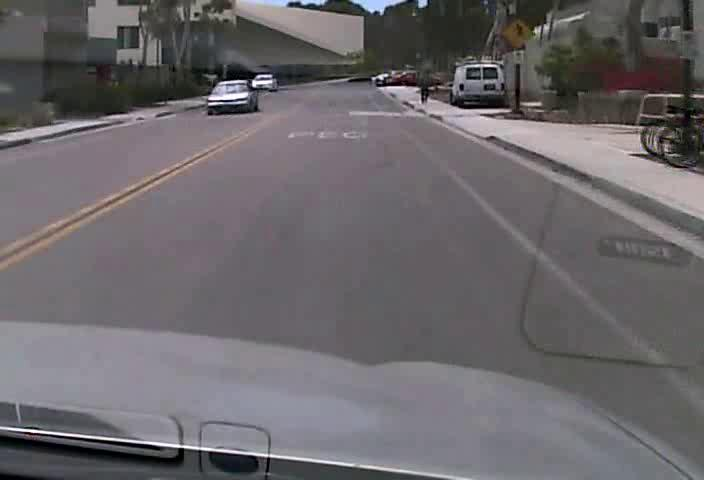pedestrianCrossing: (499, 17, 534, 49)
